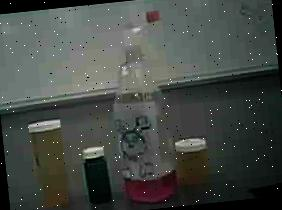Bottle A: (23, 110, 75, 210)
Bottle B: (172, 130, 219, 188)
Bottle C: (75, 140, 118, 208)
hazard: (101, 9, 180, 208)
